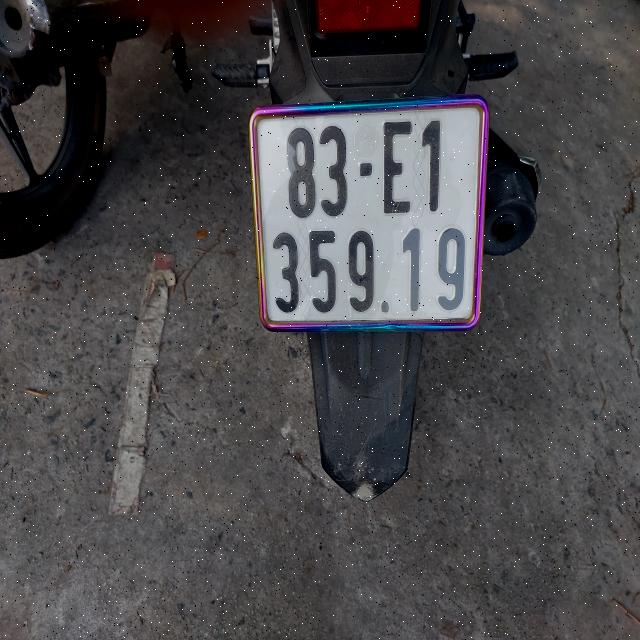1: (417, 117, 443, 215), (398, 225, 425, 315)
3: (320, 126, 350, 221), (272, 230, 301, 315)
5: (308, 228, 339, 314)
8: (283, 127, 317, 217)
9: (348, 229, 378, 315), (438, 224, 468, 310)
E: (382, 115, 412, 217)
